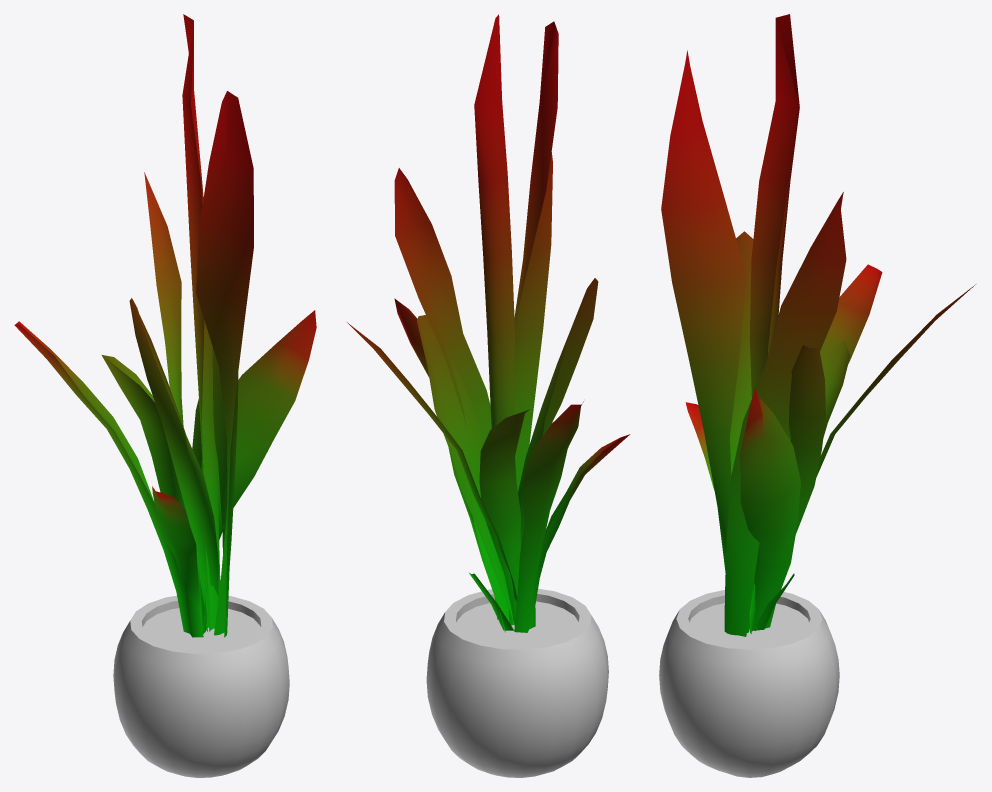
The model's file is plant01.fbx.
The picture shows the model from 3 angles, left to right: view 1: azimuth 30°, elevation 25°; view 2: azimuth 150°, elevation 25°; view 3: azimuth 270°, elevation 25°; orthographic projection. The views are drawn at different scales.
Parts seen in each view (by area): view 1: polySurface5; view 2: polySurface5; view 3: polySurface5.
Boxes of the visible parts, bbox=[...] form: polySurface5: bbox=[14, 14, 316, 777]; polySurface5: bbox=[347, 14, 630, 777]; polySurface5: bbox=[659, 14, 975, 777].
Bounding box in the file's own units: 49.41 × 144 × 55.6.
